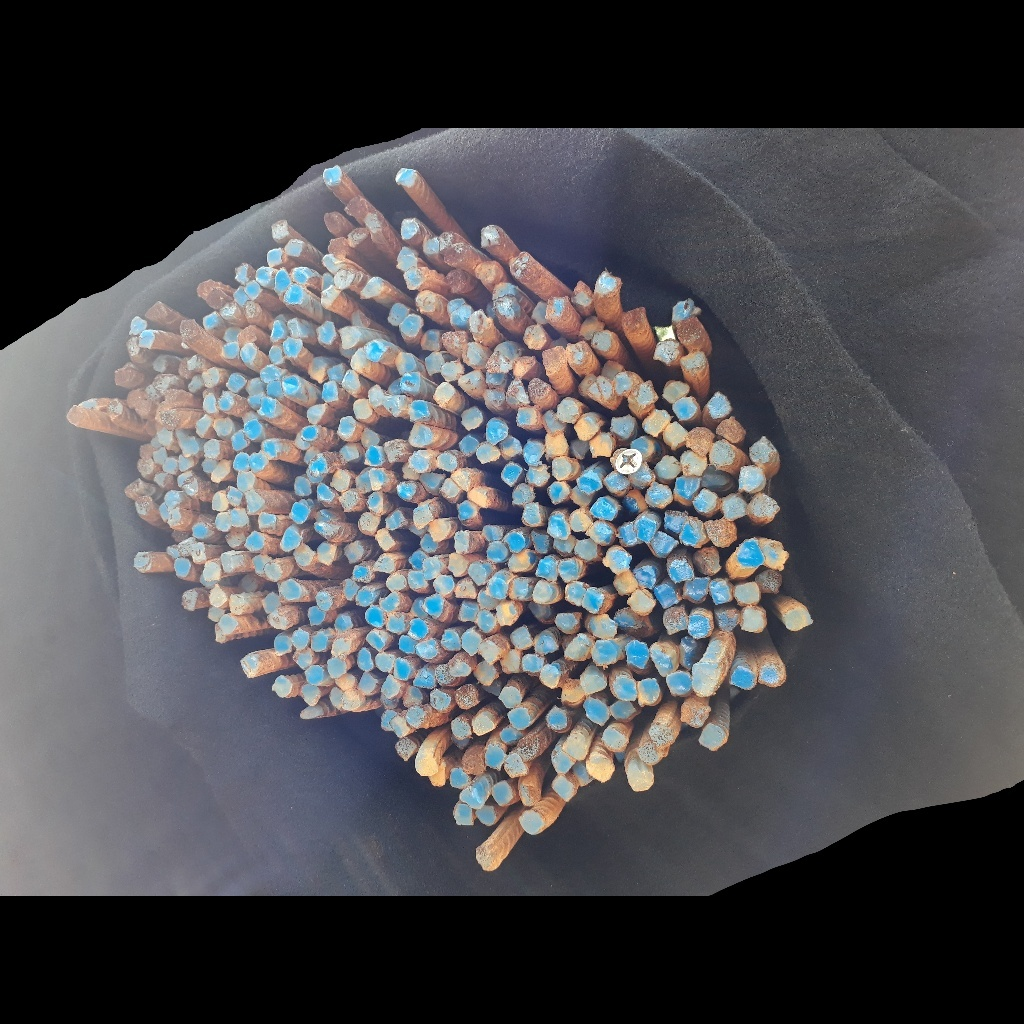dipstick: (747, 493, 779, 520), (692, 665, 719, 696), (583, 697, 611, 726), (650, 644, 677, 674), (680, 700, 709, 727), (476, 845, 504, 872), (586, 756, 614, 782), (716, 418, 746, 442), (749, 437, 776, 463), (564, 634, 590, 661), (542, 347, 566, 376), (737, 542, 764, 567), (694, 547, 719, 574), (623, 307, 647, 335), (704, 521, 732, 545), (628, 590, 656, 614), (784, 608, 813, 631), (720, 495, 746, 520), (741, 607, 766, 633), (602, 728, 628, 753), (581, 667, 605, 694), (644, 408, 669, 433), (646, 483, 671, 508), (683, 578, 708, 603), (700, 724, 725, 749), (595, 271, 621, 295), (677, 318, 701, 344), (710, 440, 734, 466), (731, 666, 757, 690), (629, 767, 655, 791), (765, 542, 788, 569), (709, 579, 732, 606), (626, 641, 649, 668), (681, 451, 706, 475), (739, 466, 764, 490), (653, 531, 678, 555), (655, 583, 679, 608), (552, 776, 576, 801), (681, 520, 704, 546), (546, 296, 568, 323), (679, 638, 697, 670), (494, 297, 519, 320), (707, 393, 730, 418), (655, 455, 680, 478), (662, 609, 687, 632), (591, 615, 616, 638), (687, 427, 709, 453), (665, 421, 687, 447), (634, 515, 655, 542), (703, 467, 731, 487), (408, 424, 432, 447), (575, 416, 599, 439), (757, 570, 781, 593), (614, 677, 637, 701), (547, 515, 570, 539), (521, 811, 544, 835), (504, 754, 527, 778), (456, 685, 479, 709), (589, 522, 614, 544), (534, 632, 559, 654), (506, 379, 527, 405), (610, 415, 636, 436), (759, 666, 785, 687), (508, 551, 534, 572), (476, 261, 503, 281), (655, 339, 678, 362), (592, 641, 615, 664), (577, 470, 601, 492), (668, 559, 692, 581), (423, 595, 445, 619), (681, 352, 706, 373), (605, 550, 630, 571), (511, 251, 531, 277), (675, 477, 701, 497), (523, 327, 546, 349), (536, 558, 558, 581), (694, 490, 718, 511), (638, 679, 659, 703), (492, 781, 513, 805), (522, 503, 542, 528), (554, 748, 574, 773), (610, 702, 636, 721), (688, 616, 710, 638), (509, 578, 531, 600), (546, 707, 568, 729), (462, 407, 483, 430), (635, 382, 656, 405), (590, 435, 613, 456), (606, 471, 629, 492), (667, 673, 690, 694), (624, 491, 647, 512), (565, 736, 586, 759), (463, 751, 484, 774), (395, 738, 416, 761), (472, 715, 495, 736), (404, 268, 428, 288), (421, 329, 441, 353), (735, 583, 759, 603), (501, 650, 521, 674), (415, 290, 437, 311), (556, 400, 578, 421), (611, 449, 633, 470), (615, 572, 636, 594), (448, 554, 469, 576), (511, 627, 532, 649), (475, 663, 497, 684), (673, 298, 696, 318), (545, 434, 568, 454), (551, 457, 571, 480), (719, 608, 739, 631), (617, 523, 637, 546), (592, 500, 615, 520), (507, 709, 530, 729), (281, 528, 300, 552), (573, 281, 592, 305), (562, 680, 581, 704), (615, 611, 640, 629), (662, 380, 688, 397), (360, 277, 381, 298), (397, 248, 418, 269), (434, 383, 455, 404), (580, 315, 601, 336), (544, 414, 565, 435), (548, 482, 569, 503), (634, 567, 655, 588), (479, 642, 500, 663), (674, 398, 696, 418), (639, 743, 661, 763), (556, 614, 578, 634), (520, 784, 540, 806), (416, 756, 438, 776), (441, 629, 461, 651), (367, 630, 387, 652), (378, 591, 400, 611), (590, 378, 609, 401), (583, 589, 602, 612), (416, 640, 439, 659), (308, 358, 326, 382), (565, 581, 583, 605), (531, 531, 549, 555), (462, 632, 480, 656), (444, 244, 465, 264), (446, 270, 466, 291), (384, 396, 405, 416), (486, 421, 506, 442), (576, 539, 596, 560), (487, 577, 507, 598), (476, 805, 497, 825), (461, 788, 482, 808), (501, 687, 521, 708), (497, 604, 517, 625), (480, 225, 499, 247), (442, 331, 464, 350), (463, 342, 482, 364), (514, 357, 536, 376), (651, 725, 673, 744), (506, 531, 525, 553), (406, 706, 425, 728), (430, 689, 449, 711), (330, 638, 352, 657), (241, 655, 260, 677), (454, 579, 476, 598), (453, 531, 471, 554), (268, 610, 291, 628), (344, 198, 369, 214), (331, 471, 351, 491), (513, 483, 533, 503), (528, 466, 548, 486), (571, 488, 591, 508), (569, 512, 589, 532), (390, 718, 410, 738), (281, 579, 301, 599), (401, 219, 420, 240), (388, 303, 407, 324), (401, 317, 422, 336), (291, 503, 310, 524), (344, 541, 363, 562), (503, 438, 522, 459), (529, 379, 550, 398), (632, 466, 653, 485), (487, 541, 506, 562), (540, 665, 559, 686), (450, 720, 471, 739), (365, 607, 384, 628), (339, 326, 357, 348), (245, 490, 263, 512), (441, 361, 463, 379), (469, 563, 487, 585), (485, 746, 503, 768), (381, 675, 399, 697), (413, 670, 435, 688), (313, 523, 339, 538), (576, 761, 591, 787), (324, 211, 343, 231), (396, 167, 416, 186), (366, 340, 386, 359), (430, 520, 450, 539), (612, 374, 631, 394), (559, 561, 579, 580), (523, 654, 543, 673), (403, 687, 422, 707), (300, 685, 320, 704), (409, 620, 429, 639), (387, 613, 406, 633), (458, 601, 478, 620), (211, 461, 229, 482), (479, 445, 500, 463), (524, 442, 542, 463), (664, 511, 685, 529), (455, 805, 473, 826), (359, 673, 377, 694), (477, 611, 495, 632), (318, 322, 335, 344), (383, 440, 400, 462), (210, 584, 227, 606), (318, 543, 335, 565), (503, 463, 520, 485), (534, 580, 551, 602), (292, 628, 309, 650), (357, 648, 373, 671), (323, 166, 342, 185), (450, 769, 469, 788), (305, 666, 324, 685), (293, 648, 312, 667), (376, 529, 394, 549), (469, 488, 489, 506), (273, 677, 291, 697), (433, 576, 453, 594), (145, 302, 166, 319), (487, 353, 508, 370), (567, 342, 584, 363), (385, 574, 406, 591), (423, 557, 440, 578), (516, 408, 538, 424), (373, 556, 395, 572), (288, 319, 307, 337), (283, 338, 302, 356), (307, 406, 326, 424), (360, 428, 378, 447), (237, 471, 255, 490), (295, 545, 313, 564), (339, 492, 358, 510), (413, 507, 431, 526), (398, 353, 416, 372), (484, 389, 503, 407), (452, 472, 470, 491), (342, 691, 360, 710), (327, 659, 346, 677), (375, 654, 393, 673), (436, 665, 454, 684), (328, 238, 348, 255), (336, 270, 356, 287), (322, 382, 339, 402), (359, 513, 379, 530), (426, 352, 443, 372), (633, 441, 653, 458), (310, 632, 327, 652), (409, 552, 429, 569), (347, 228, 368, 244), (230, 593, 246, 614), (410, 598, 426, 619), (356, 472, 371, 494), (394, 658, 409, 680), (227, 373, 245, 391), (181, 438, 199, 456), (354, 399, 372, 417), (126, 479, 144, 497), (115, 367, 132, 386), (397, 482, 416, 499), (452, 305, 469, 324), (499, 727, 518, 744), (353, 566, 372, 583), (498, 343, 521, 357), (66, 406, 82, 426), (272, 219, 288, 239), (212, 491, 228, 511), (460, 370, 480, 386), (322, 255, 343, 270), (351, 349, 366, 370), (182, 589, 197, 610), (482, 526, 503, 541), (529, 603, 550, 618), (276, 267, 289, 291), (300, 706, 324, 719), (370, 468, 384, 490), (431, 765, 445, 787), (285, 239, 302, 257), (203, 440, 220, 458), (339, 417, 356, 435), (317, 484, 335, 501), (136, 497, 154, 514), (134, 551, 151, 569), (459, 436, 476, 454), (274, 636, 291, 654), (356, 589, 373, 607), (409, 572, 427, 589), (420, 534, 437, 552), (107, 398, 123, 417), (161, 411, 180, 427), (204, 368, 220, 387), (246, 421, 262, 440), (262, 440, 278, 459), (385, 512, 404, 528), (368, 492, 383, 512), (420, 473, 440, 488), (263, 592, 278, 612), (493, 283, 514, 297), (129, 317, 146, 334), (322, 287, 339, 304), (294, 477, 311, 494), (245, 532, 262, 549), (203, 563, 220, 580), (402, 373, 419, 390), (335, 615, 352, 632), (478, 593, 495, 610), (181, 320, 197, 338), (208, 290, 224, 308), (266, 248, 282, 266), (203, 312, 221, 328), (421, 235, 437, 253), (269, 346, 285, 364), (246, 378, 264, 394), (214, 419, 232, 435), (342, 370, 358, 388), (365, 447, 381, 465), (137, 458, 153, 476), (214, 512, 230, 530), (219, 616, 237, 632), (264, 563, 282, 579), (457, 502, 475, 518), (399, 636, 415, 654), (307, 607, 323, 625), (369, 385, 382, 407), (554, 540, 576, 553), (261, 366, 280, 381), (257, 513, 276, 528), (482, 681, 501, 696), (317, 592, 332, 611), (342, 580, 357, 599), (335, 675, 355, 689), (314, 510, 337, 522), (439, 230, 452, 251), (366, 215, 383, 231), (351, 311, 368, 327), (240, 344, 256, 361), (249, 453, 266, 469), (231, 509, 247, 526), (178, 538, 194, 555), (410, 454, 427, 470), (232, 432, 247, 450), (292, 430, 307, 448), (226, 532, 244, 547), (442, 479, 460, 494), (595, 331, 610, 349), (197, 416, 211, 435), (340, 445, 359, 459), (227, 486, 241, 505), (381, 710, 394, 730), (223, 342, 239, 358), (257, 266, 272, 283), (283, 375, 298, 392), (219, 394, 236, 409), (203, 395, 218, 412), (533, 301, 544, 324), (601, 361, 622, 373), (246, 282, 261, 298), (261, 399, 277, 414), (162, 458, 178, 473), (178, 455, 193, 471), (233, 454, 248, 470), (193, 543, 205, 563), (208, 607, 224, 622), (330, 687, 342, 707), (239, 328, 256, 342), (153, 355, 167, 372), (165, 389, 179, 406), (329, 364, 343, 381), (184, 478, 198, 495), (154, 473, 172, 486), (168, 508, 181, 526), (166, 489, 179, 507), (127, 337, 139, 356), (271, 321, 283, 340), (380, 697, 399, 709), (451, 664, 470, 676), (222, 302, 238, 316), (311, 458, 327, 472), (175, 559, 189, 575), (439, 454, 453, 470), (221, 553, 234, 570), (388, 377, 401, 394), (236, 263, 248, 281), (294, 269, 309, 283), (177, 472, 192, 486), (189, 376, 202, 392), (191, 524, 207, 537), (486, 374, 504, 385), (139, 332, 153, 346), (189, 356, 203, 370), (254, 557, 268, 571), (153, 375, 168, 388), (248, 395, 263, 408), (403, 465, 416, 480), (320, 275, 333, 289), (128, 391, 142, 404), (136, 401, 150, 414), (267, 382, 281, 395), (159, 431, 173, 444), (139, 444, 153, 457), (153, 449, 166, 463), (179, 357, 188, 377), (301, 428, 317, 439), (198, 281, 210, 295), (235, 288, 246, 303), (224, 328, 239, 339), (146, 387, 161, 398), (579, 374, 595, 384), (305, 448, 316, 462), (159, 502, 167, 521), (203, 458, 213, 473), (213, 624, 221, 642), (200, 581, 216, 588), (151, 436, 160, 448)
